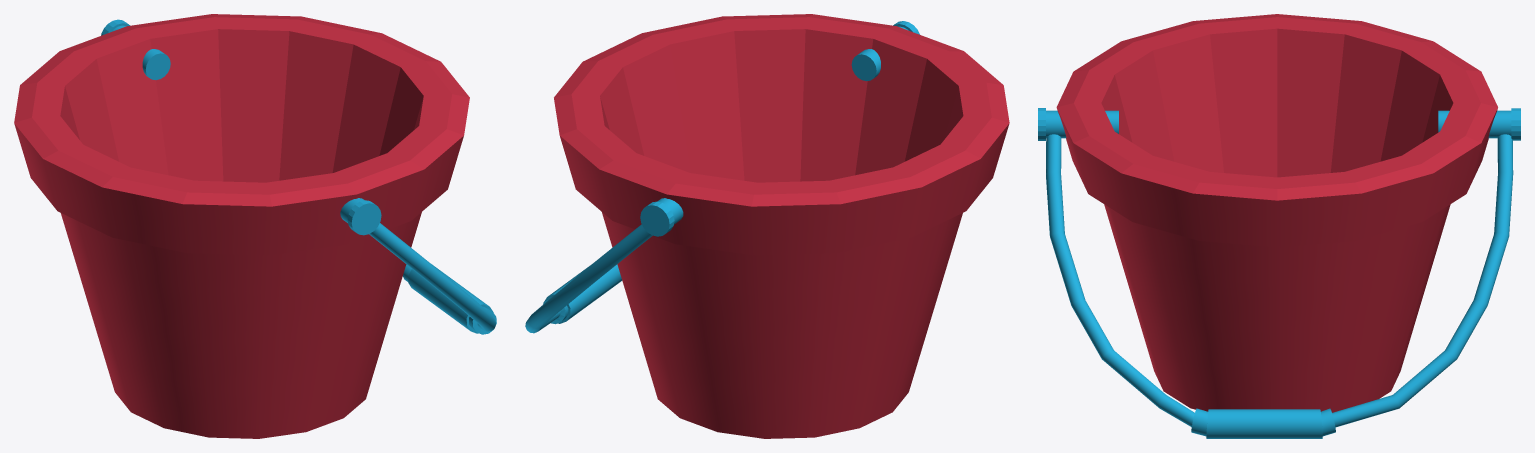
Rendered from Seau.fbx.
The picture shows the model from 3 angles, left to right: view 1: azimuth 30°, elevation 25°; view 2: azimuth 150°, elevation 25°; view 3: azimuth 270°, elevation 25°; orthographic projection. The views are drawn at different scales.
Parts seen in each view (by area): view 1: Cylinder020; view 2: Cylinder020; view 3: Cylinder020.
Part boxes in pixels (left/top/right/bottom): Cylinder020: left=14, top=14, right=496, bottom=438; Cylinder020: left=525, top=14, right=1009, bottom=438; Cylinder020: left=1038, top=14, right=1520, bottom=438.
Bounding box in the file's own units: 30.09 × 19.4 × 31.64.
